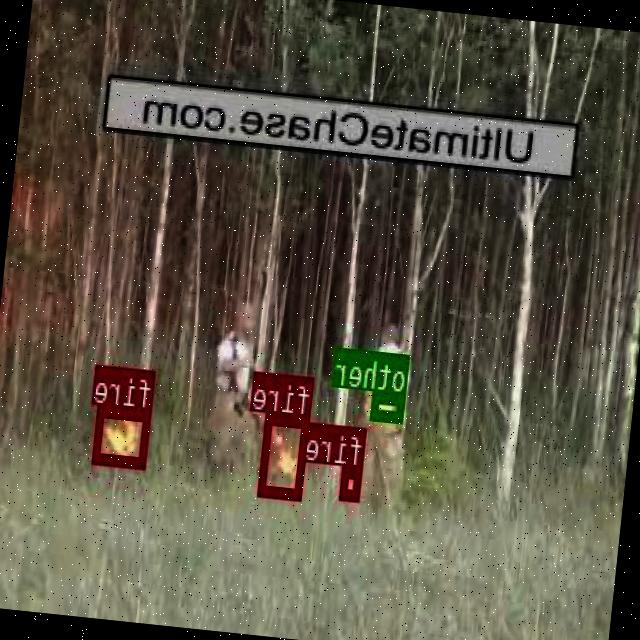fire: (259, 412, 311, 497), (94, 404, 152, 466), (341, 463, 364, 498)
